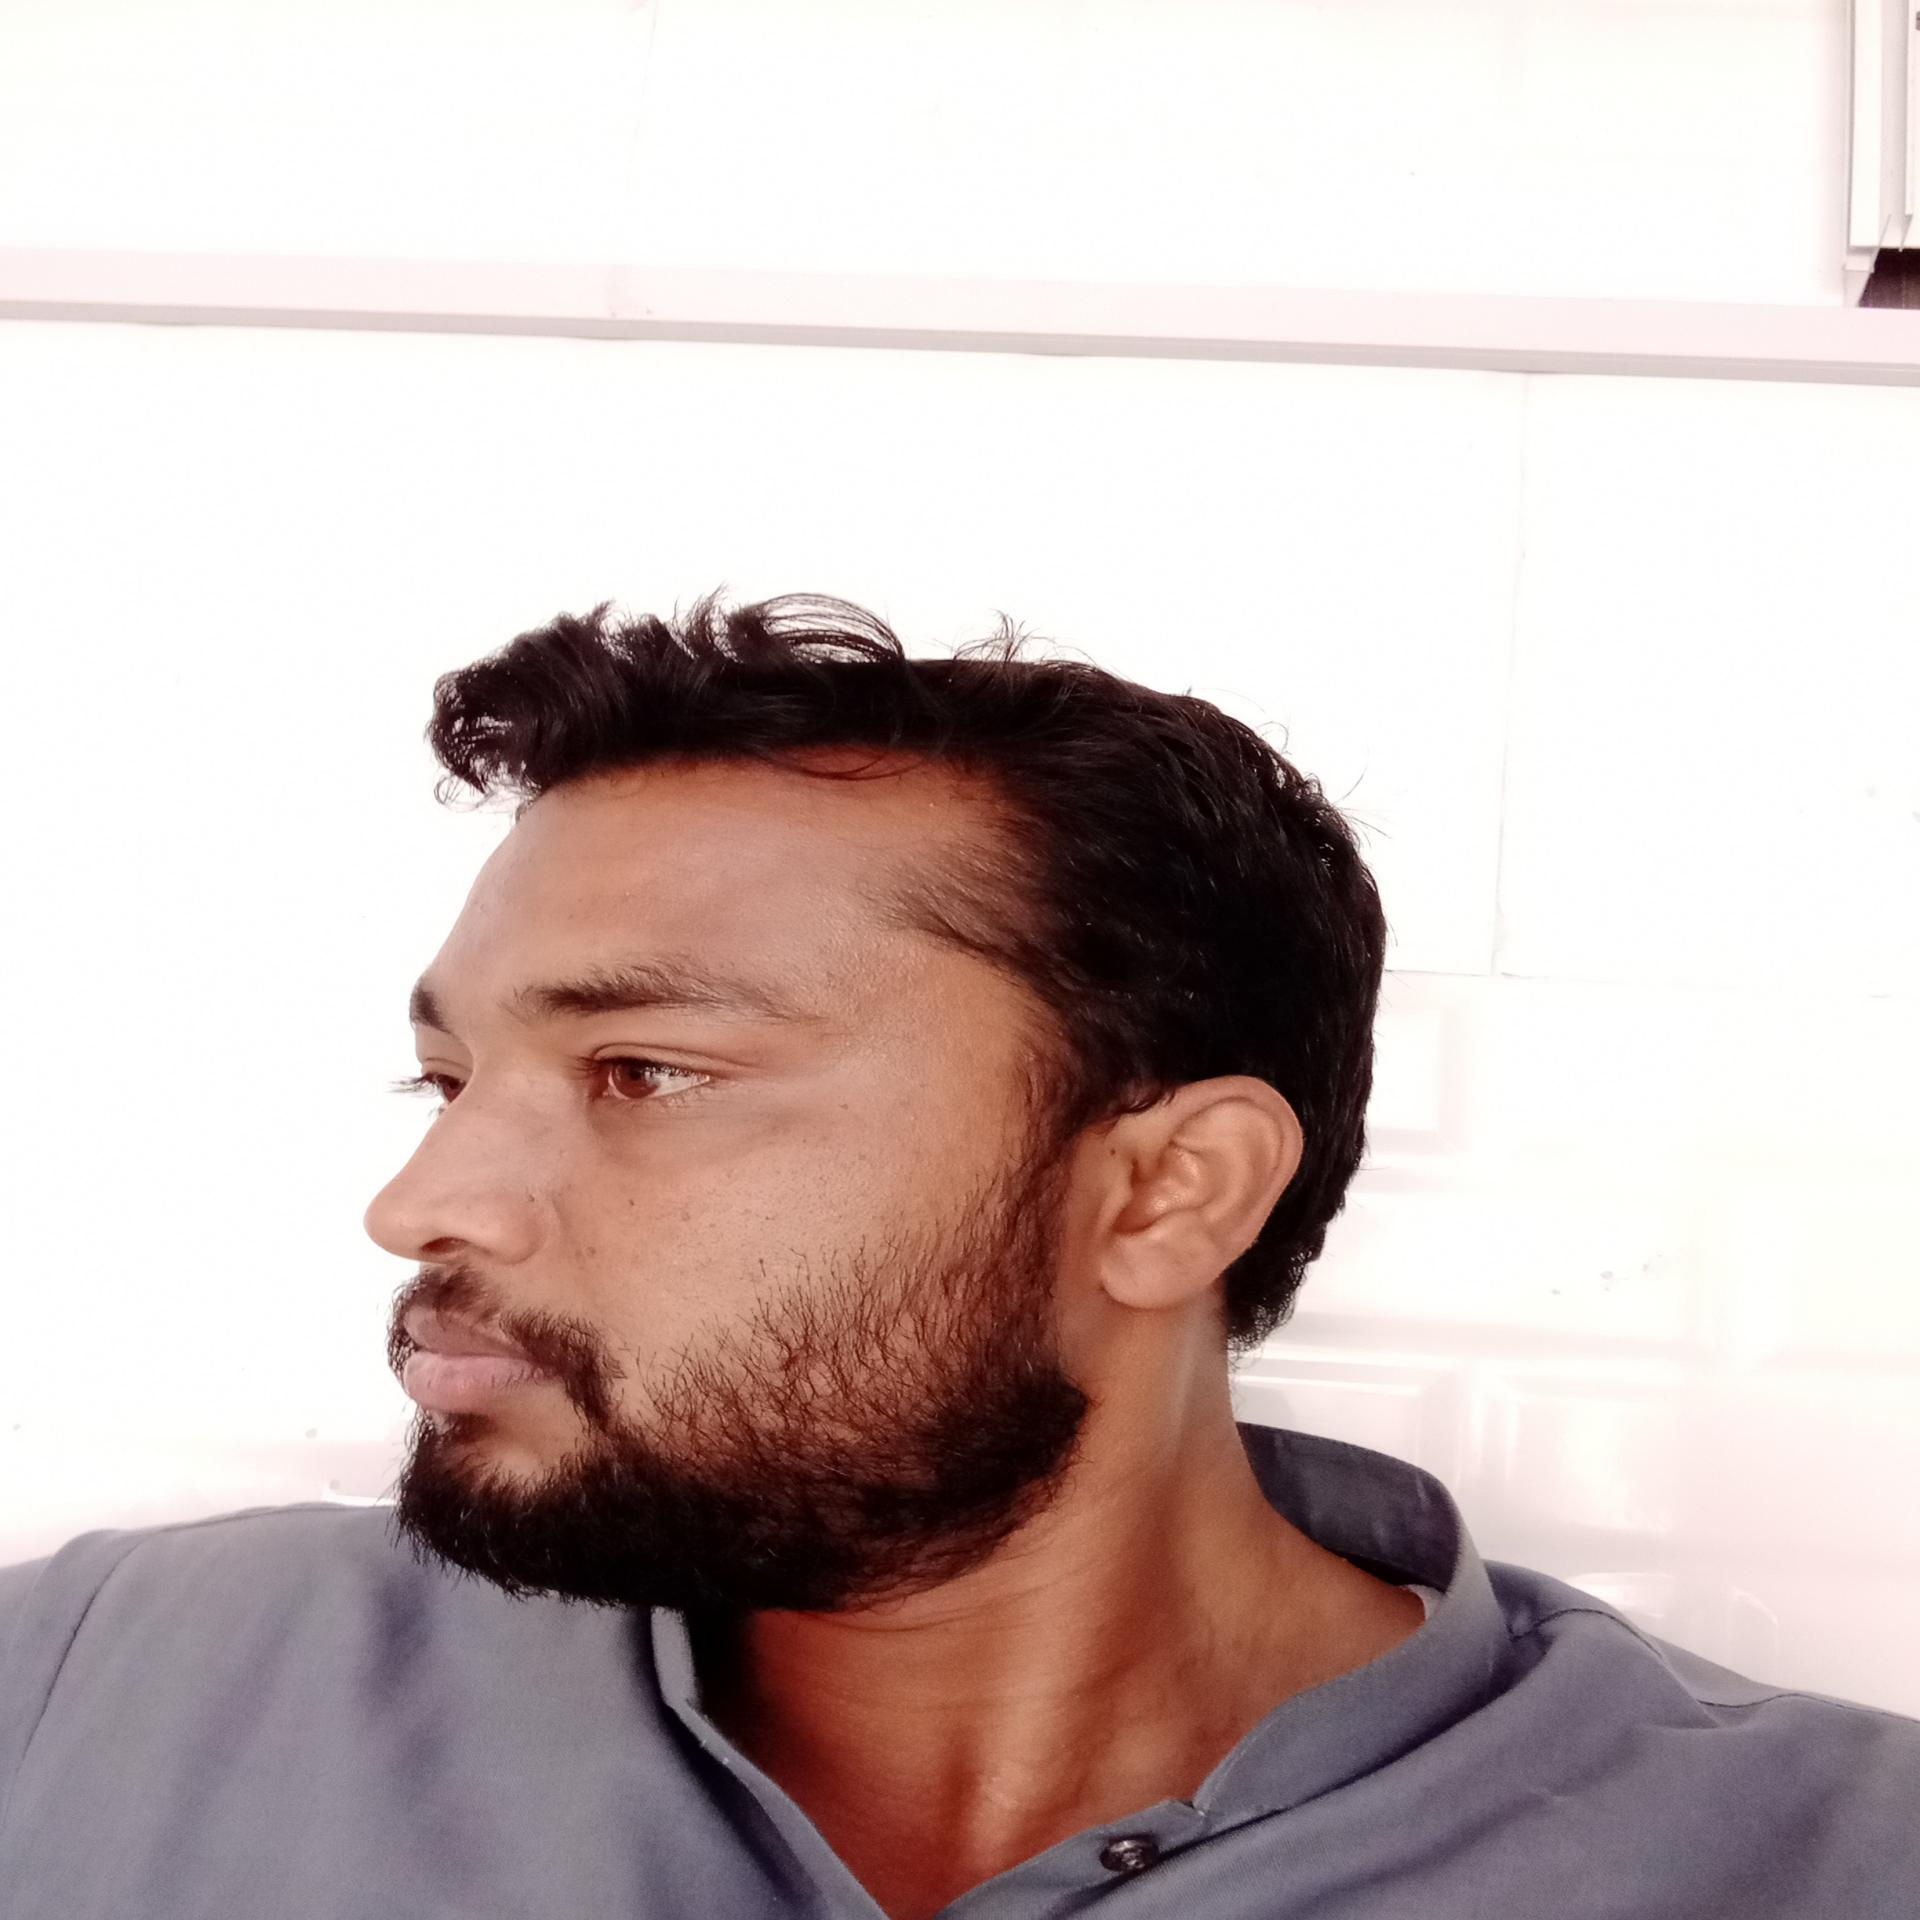Acne: (809, 935, 918, 1007)
Blackhead: (735, 1204, 802, 1231), (573, 1238, 607, 1266), (679, 1210, 705, 1229), (796, 1225, 818, 1245), (844, 1196, 847, 1213)
Dark Circles: (577, 1081, 796, 1180)
